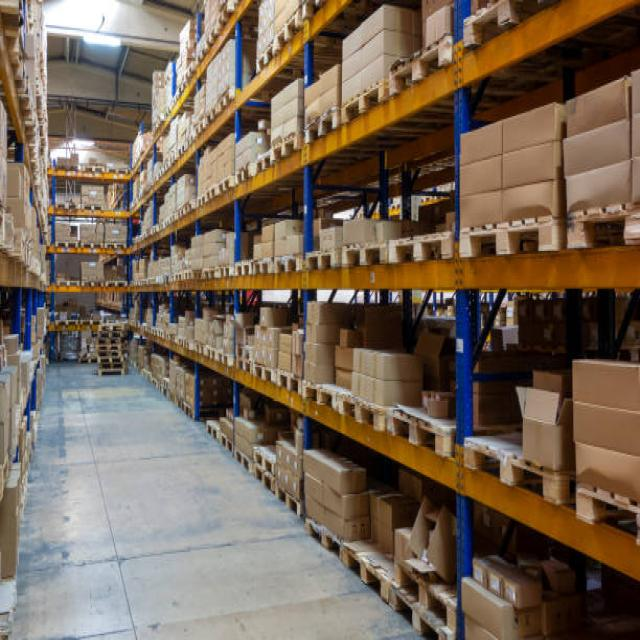Wooden-Pallets: (460, 429, 571, 520), (455, 212, 552, 265), (385, 399, 449, 459), (389, 584, 450, 640), (297, 509, 347, 568), (345, 543, 393, 600), (389, 228, 448, 274), (299, 375, 346, 429), (301, 240, 340, 281), (252, 459, 275, 502), (270, 252, 300, 282), (245, 362, 276, 389), (198, 418, 221, 451)
